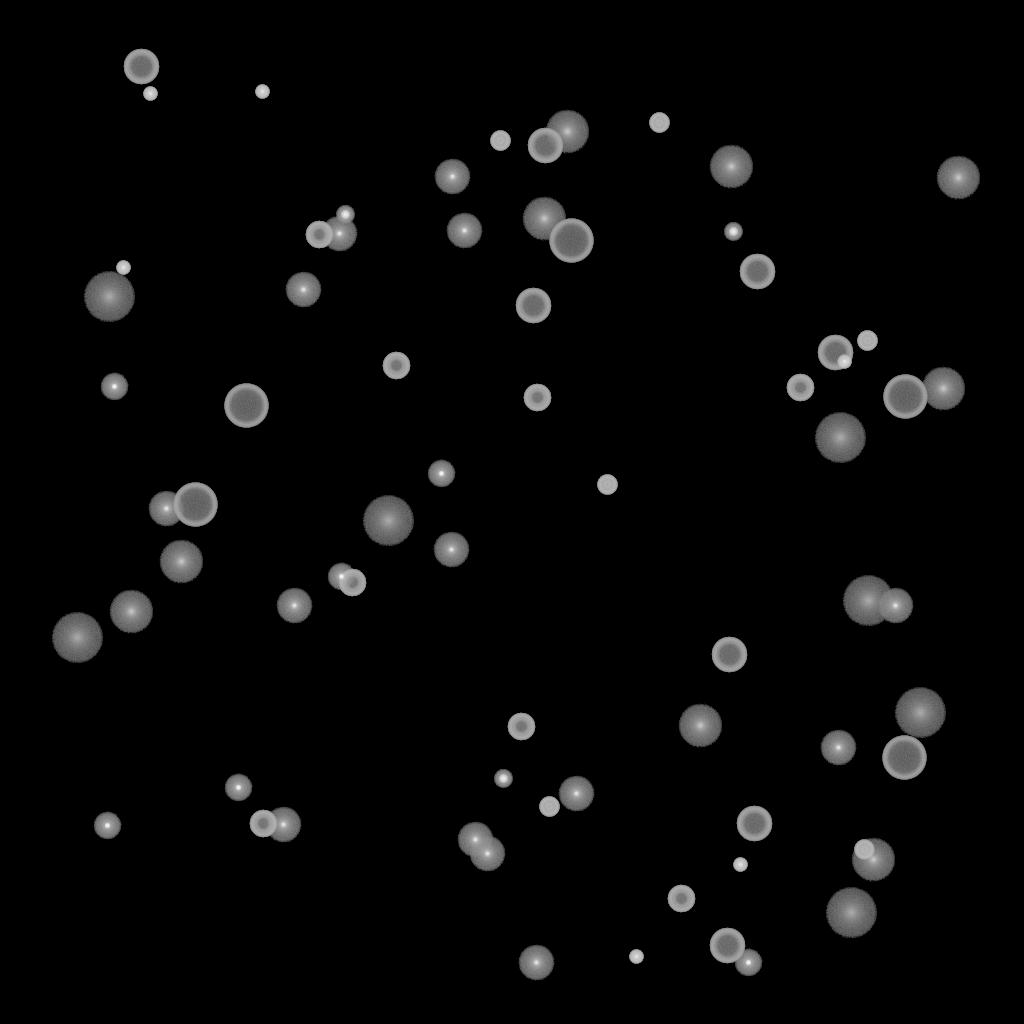depth:-10: (427, 460, 455, 488), (93, 812, 121, 840), (100, 373, 128, 401), (327, 563, 355, 591), (224, 774, 252, 802), (734, 949, 762, 977)
depth:-20: (494, 770, 512, 788), (724, 223, 742, 241), (336, 206, 354, 224)
depth:-30: (733, 858, 747, 872), (255, 85, 269, 99), (837, 355, 851, 369), (116, 261, 130, 275), (143, 87, 157, 101), (629, 950, 643, 964)
depth:-40: (649, 113, 669, 133), (490, 131, 510, 151), (857, 331, 877, 351), (539, 797, 559, 817), (597, 475, 617, 495), (854, 840, 874, 860)
depth:-50: (667, 885, 695, 913), (249, 810, 277, 838), (338, 569, 366, 597), (507, 713, 535, 741), (523, 384, 551, 412), (786, 374, 814, 402), (382, 352, 410, 380), (305, 221, 333, 249)
depth:-60: (709, 928, 745, 964), (515, 288, 551, 324), (123, 49, 159, 85), (527, 128, 563, 164), (817, 335, 853, 371), (736, 806, 772, 842), (711, 637, 747, 673), (739, 254, 775, 290)
depth:-70: (173, 483, 217, 527), (883, 375, 927, 419), (882, 736, 926, 780), (549, 219, 593, 263), (224, 384, 268, 428)
depth:0: (276, 588, 312, 624), (285, 272, 321, 308), (469, 836, 505, 872), (558, 776, 594, 812), (434, 159, 470, 195), (433, 532, 469, 568), (877, 588, 913, 624), (518, 945, 554, 981), (321, 216, 357, 252), (820, 730, 856, 766), (457, 822, 493, 858), (148, 491, 184, 527), (446, 213, 482, 249), (265, 807, 301, 843)
depth:10: (709, 145, 753, 189), (936, 156, 980, 200), (851, 838, 895, 882), (109, 590, 153, 634), (921, 367, 965, 411), (545, 110, 589, 154), (522, 197, 566, 241), (159, 540, 203, 584), (678, 704, 722, 748)
depth:20: (825, 888, 877, 938), (362, 496, 414, 546), (894, 688, 946, 738), (51, 613, 103, 663), (842, 576, 894, 626), (814, 413, 866, 463), (83, 272, 135, 322)
